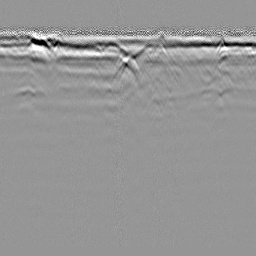cavity: (110, 55, 144, 80)
